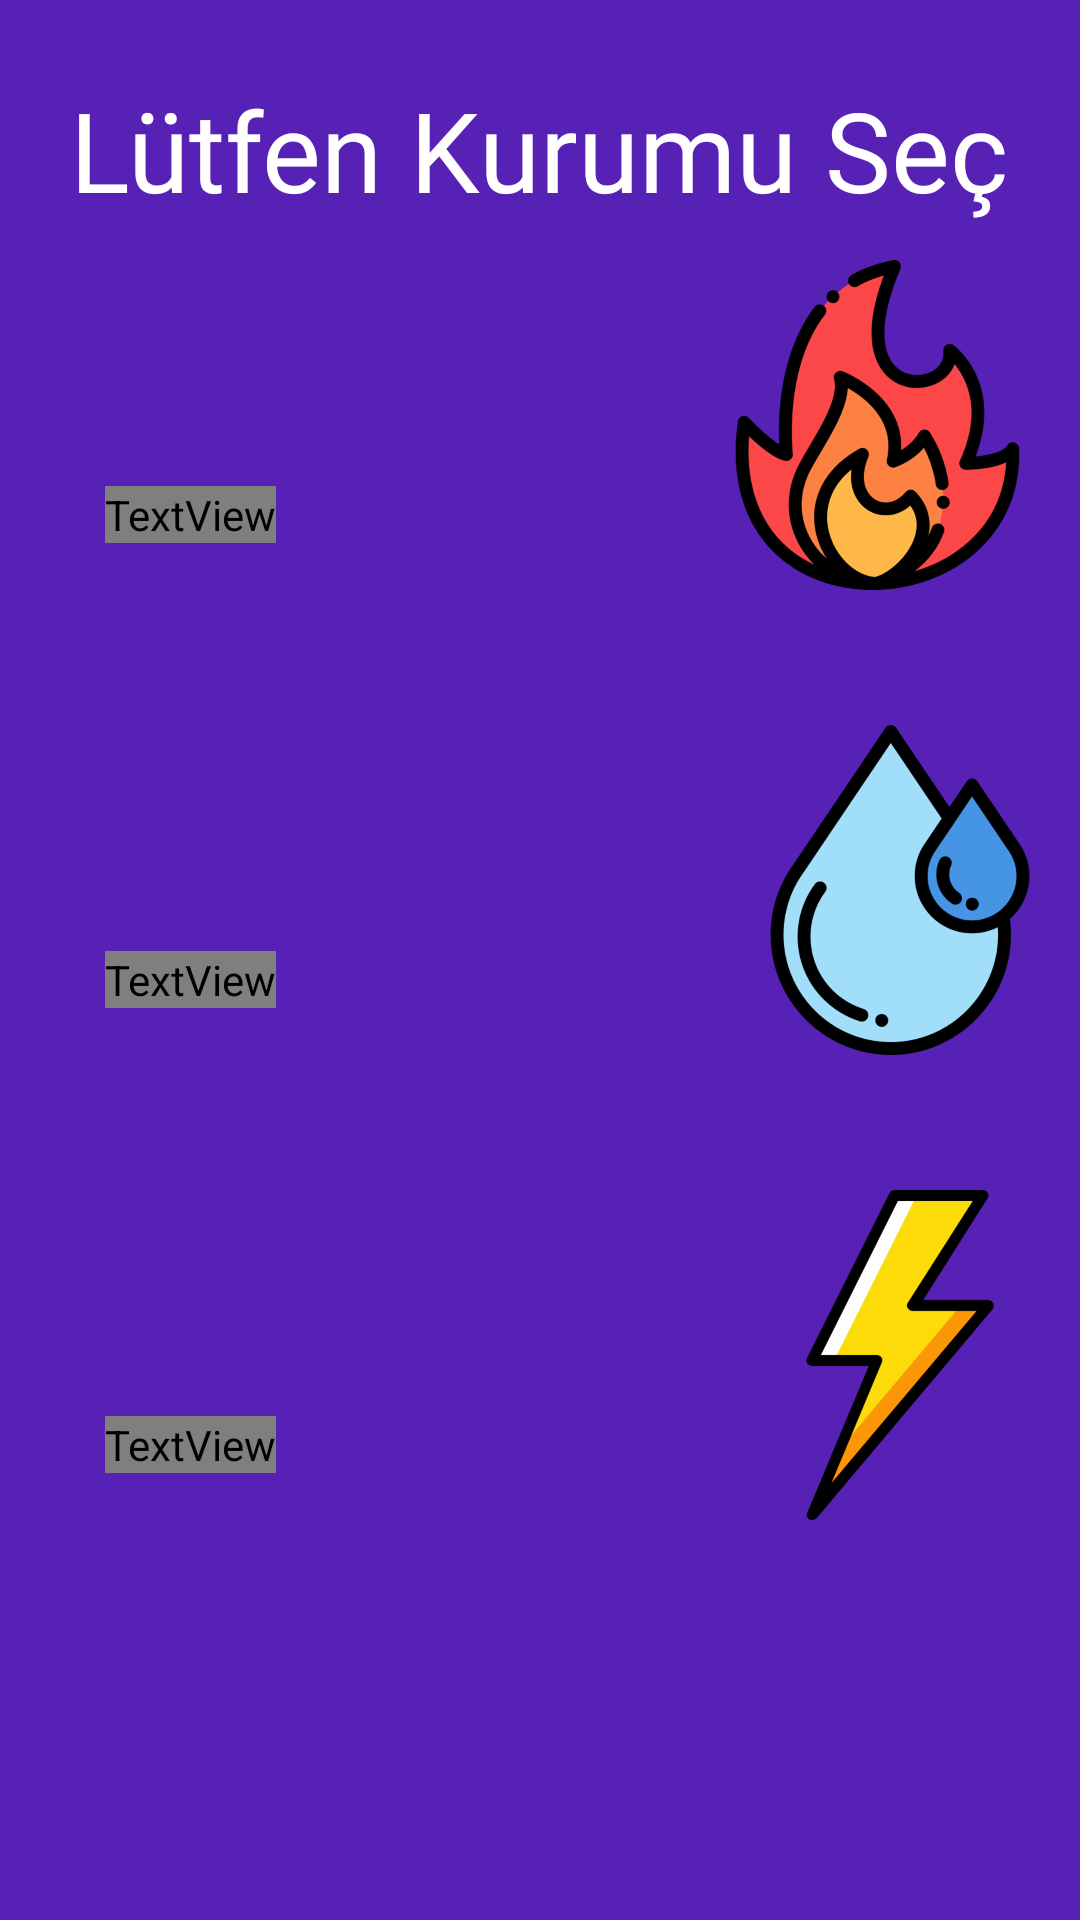

Named icons in this screenshot (1080px x 1920px) and their bounding boxes, (x1, y1, x2, y2):
elektrik: (806, 1190, 994, 1520)
gaz: (735, 260, 1020, 590)
